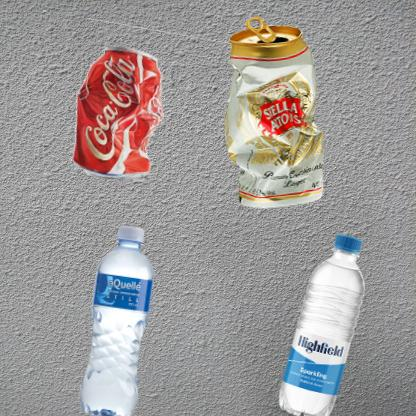botella: (10, 213, 229, 416), (213, 213, 416, 416)
lata: (10, 10, 235, 236), (213, 10, 336, 223)
